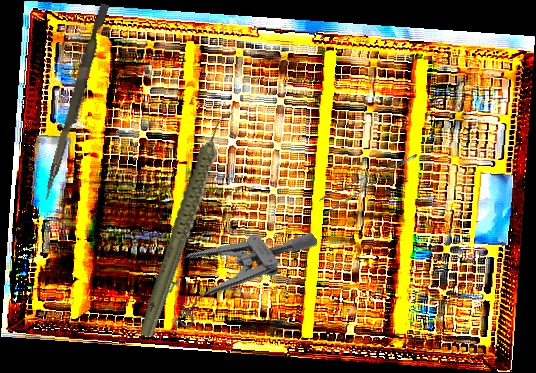Handpiece: (95, 107, 280, 342)
Pusher: (42, 1, 110, 203)
Speculum: (141, 184, 320, 344)
Tissue Forceps: (316, 154, 425, 214)
